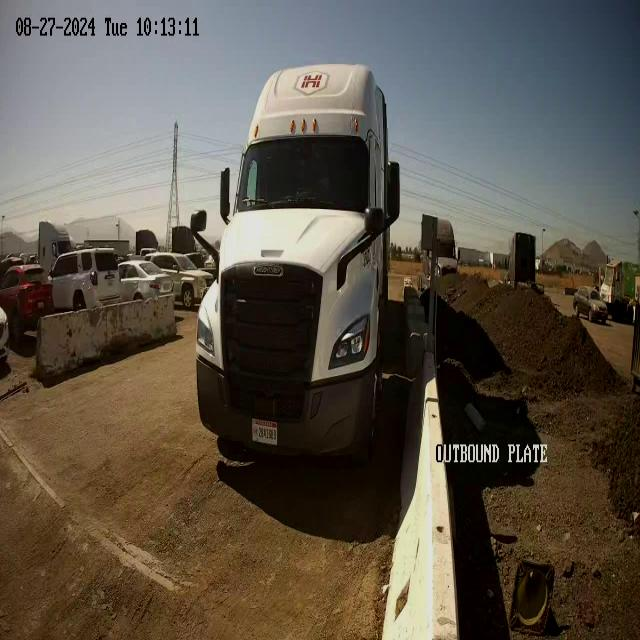TRUCK_CONTAINER: (192, 62, 402, 466)
